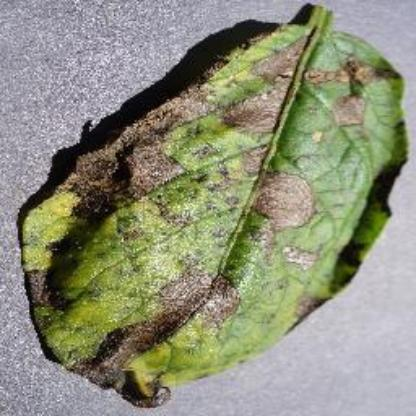Early-Blight: (16, 7, 410, 407)
